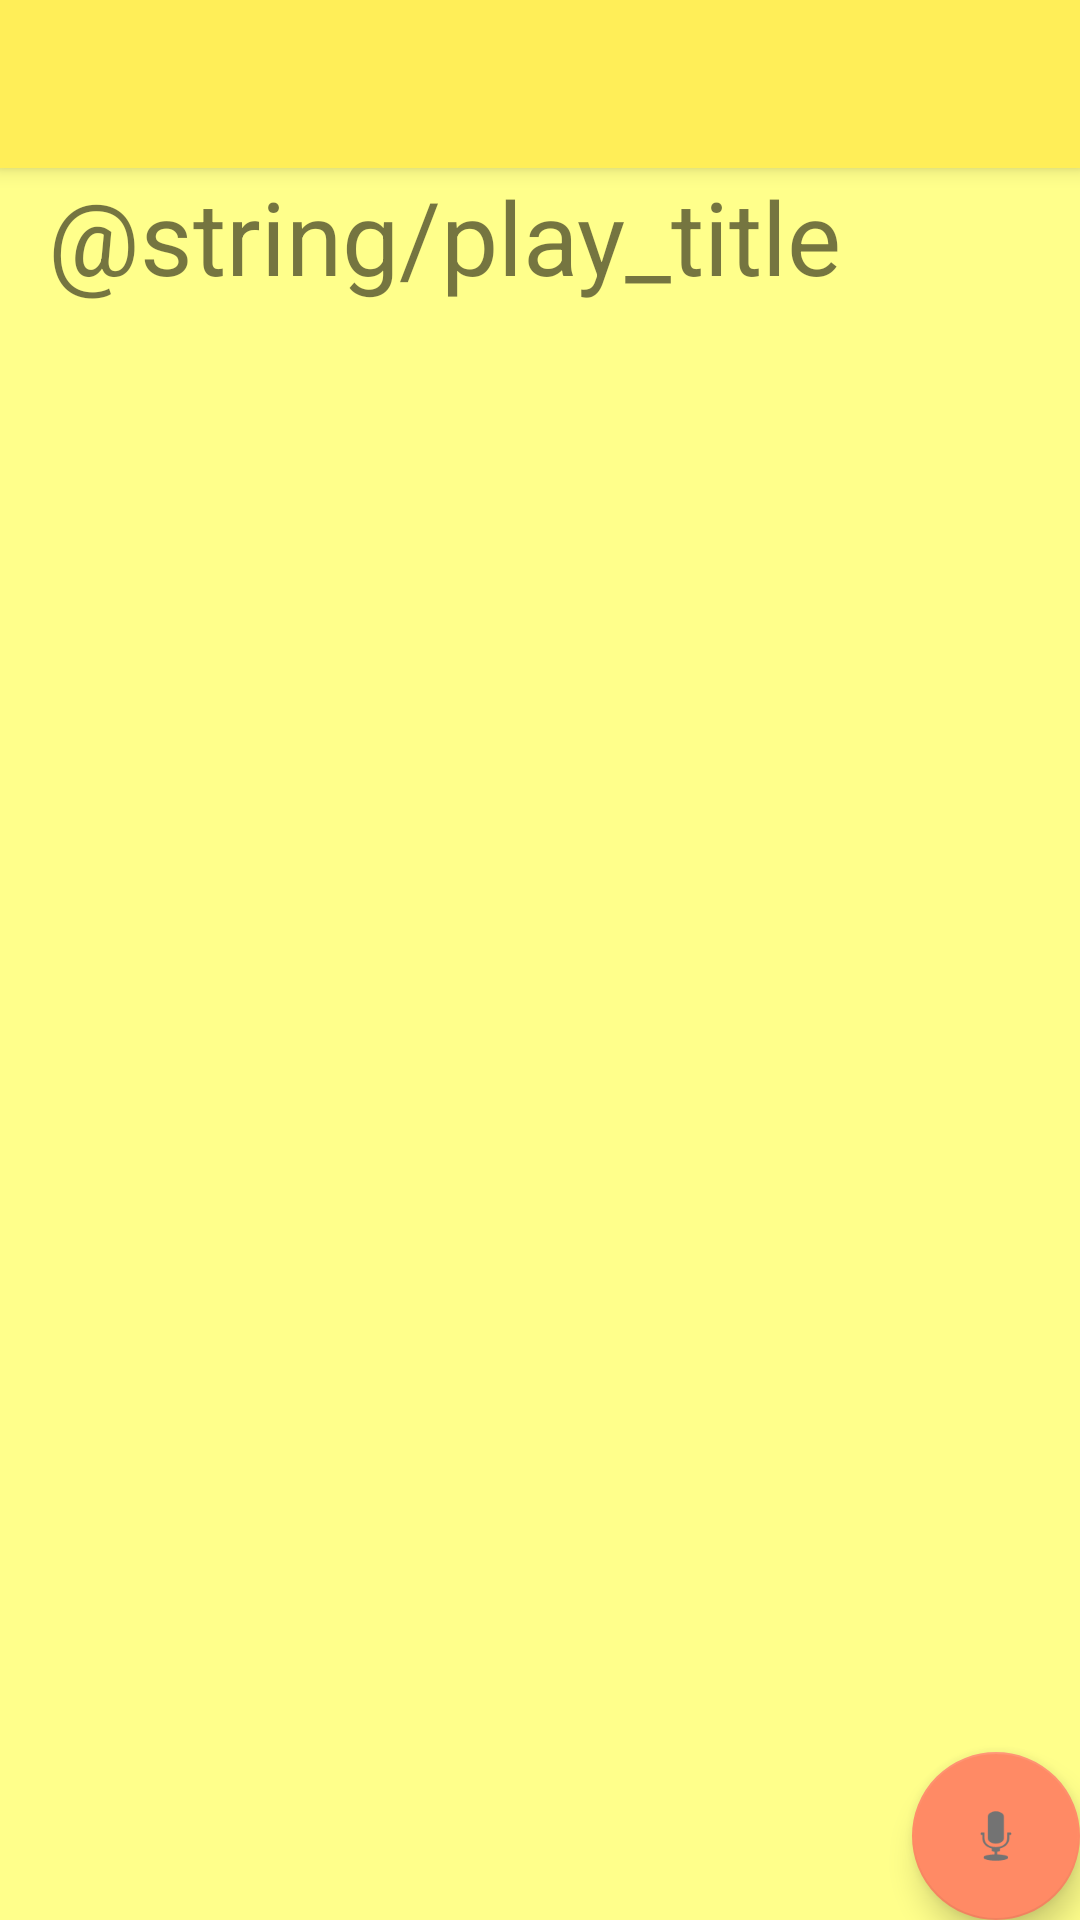

Screen size 1080 × 1920. Icon name, then its box in pixels as (x1, y1, x2, y2):
speak now: (912, 1752, 1080, 1920)
